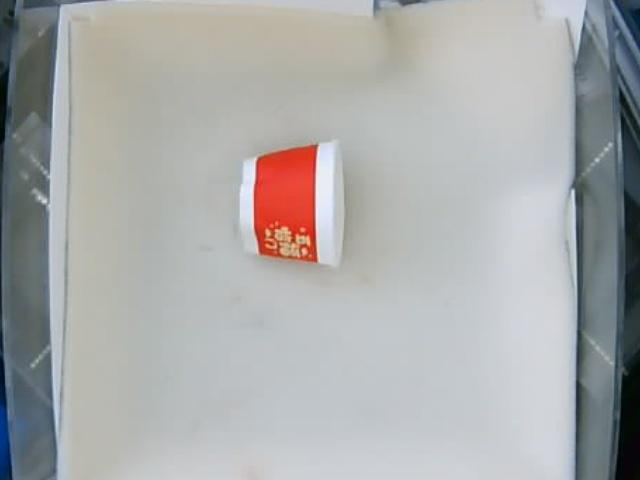Cup: (237, 143, 347, 270)
